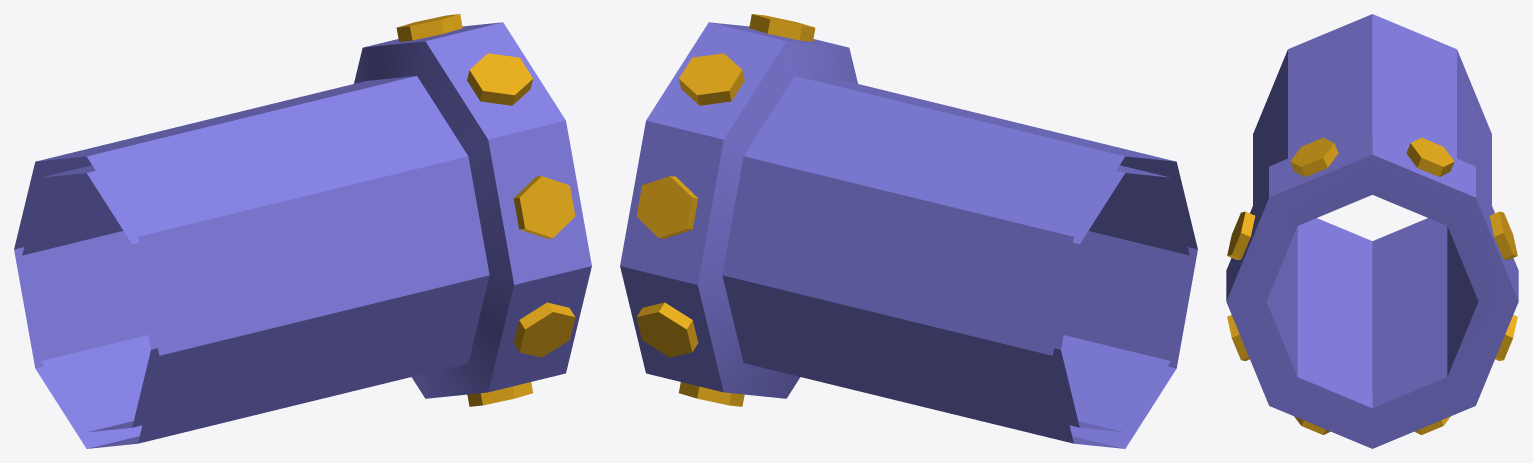
Rendered from pipe1.fbx.
3 views of the same model, side by side, from view 1: azimuth 30°, elevation 25°; view 2: azimuth 150°, elevation 25°; view 3: azimuth 270°, elevation 25° (orthographic). The views are drawn at different scales.
Visible parts, largest first — view 1: pipe1; view 2: pipe1; view 3: pipe1.
Part boxes in pixels (box(x1,y1,x2,y2)): pipe1: box(14, 14, 591, 448); pipe1: box(620, 14, 1197, 448); pipe1: box(1226, 14, 1518, 448).
Size of the model in its own units: 4.99 by 3.68 by 4.09.
